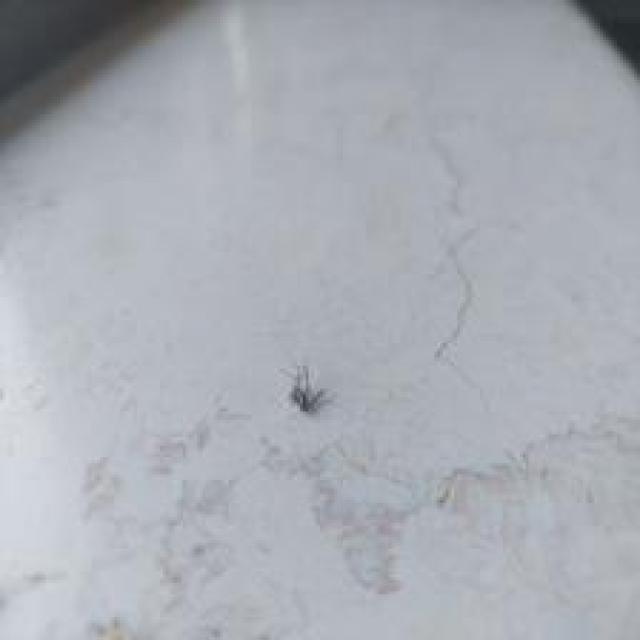Aedes albopictus: (286, 363, 331, 414)
